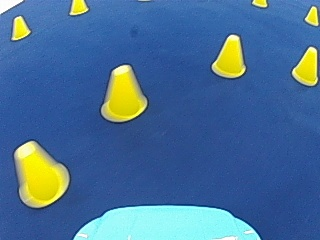cone: (13, 141, 66, 207), (101, 64, 147, 122), (211, 33, 246, 78), (291, 45, 318, 85), (10, 14, 30, 40), (304, 5, 319, 25), (69, 0, 87, 15), (252, 0, 266, 7)
